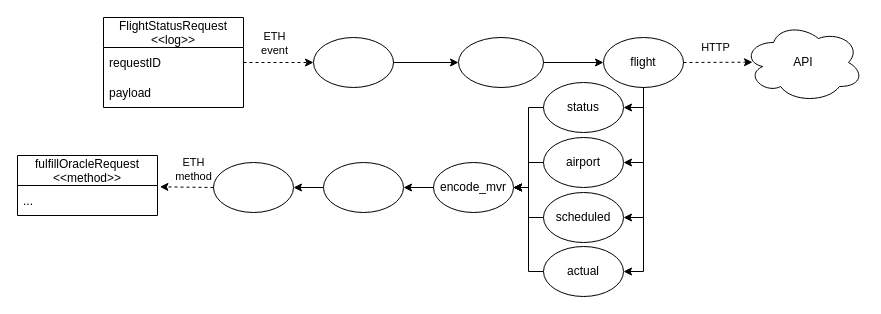
Some shapes in this 881 by 314 pixel diagram are drawn without their labels. The shapes that lost their labels are listed below. From the top down, each one's centre as x and y in pixels, then its label:
point 353,62: decode_log
point 501,62: decode_cbor
point 253,187: submit_tx
point 363,187: encode_tx
